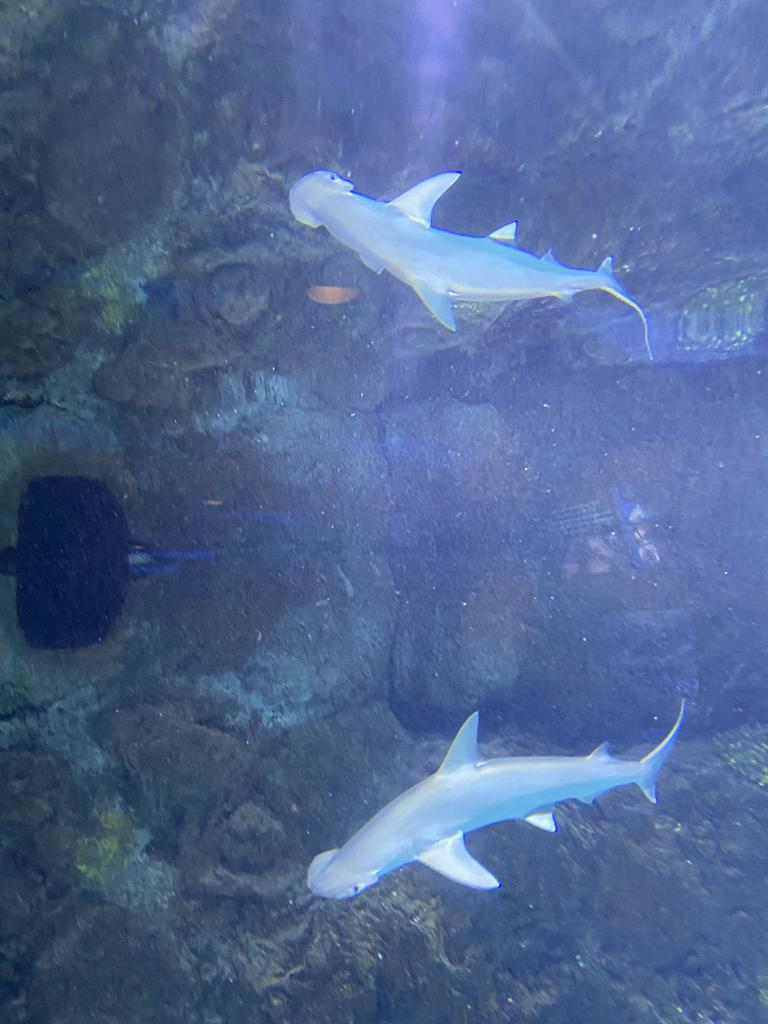shark: (274, 710, 684, 902), (282, 164, 650, 368)
